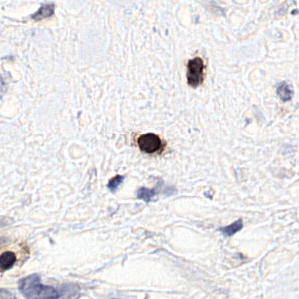Lymphocyte: (137, 131, 164, 153)
